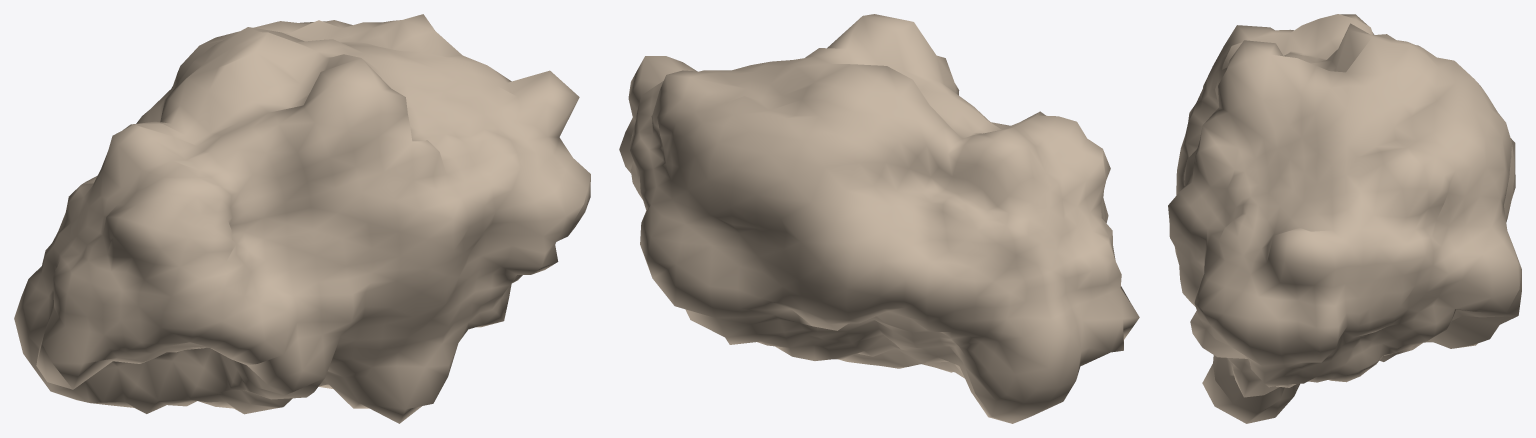
File: Asteroid_1.glb
3 renders of one model, left to right at view 1: azimuth 30°, elevation 25°; view 2: azimuth 150°, elevation 25°; view 3: azimuth 270°, elevation 25°, orthographic. The views are drawn at different scales.
Parts seen in each view (by area): view 1: Asteroid_01; view 2: Asteroid_01; view 3: Asteroid_01.
Boxes of the visible parts, left/top/right/bottom form: Asteroid_01: left=14, top=14, right=590, bottom=423; Asteroid_01: left=619, top=14, right=1139, bottom=423; Asteroid_01: left=1168, top=14, right=1521, bottom=423.
Size of the model in its own units: 1 by 0.6462 by 0.5914.
